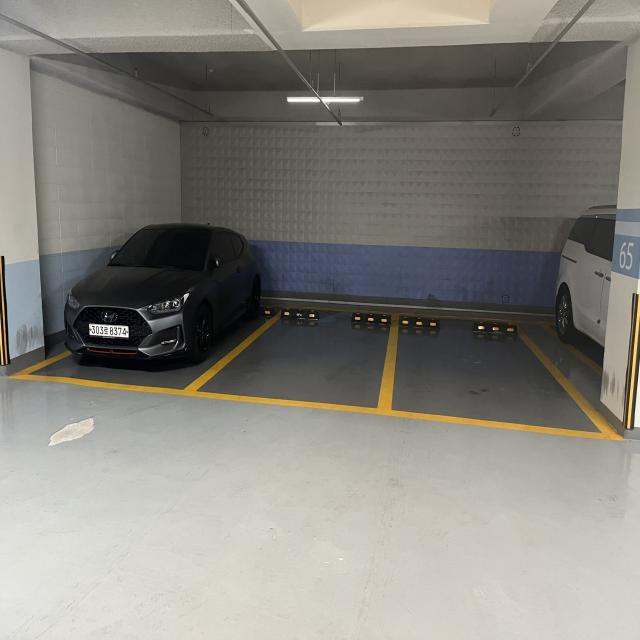empty: (382, 298, 607, 437), (212, 302, 394, 415)
occupied: (48, 210, 220, 402)
